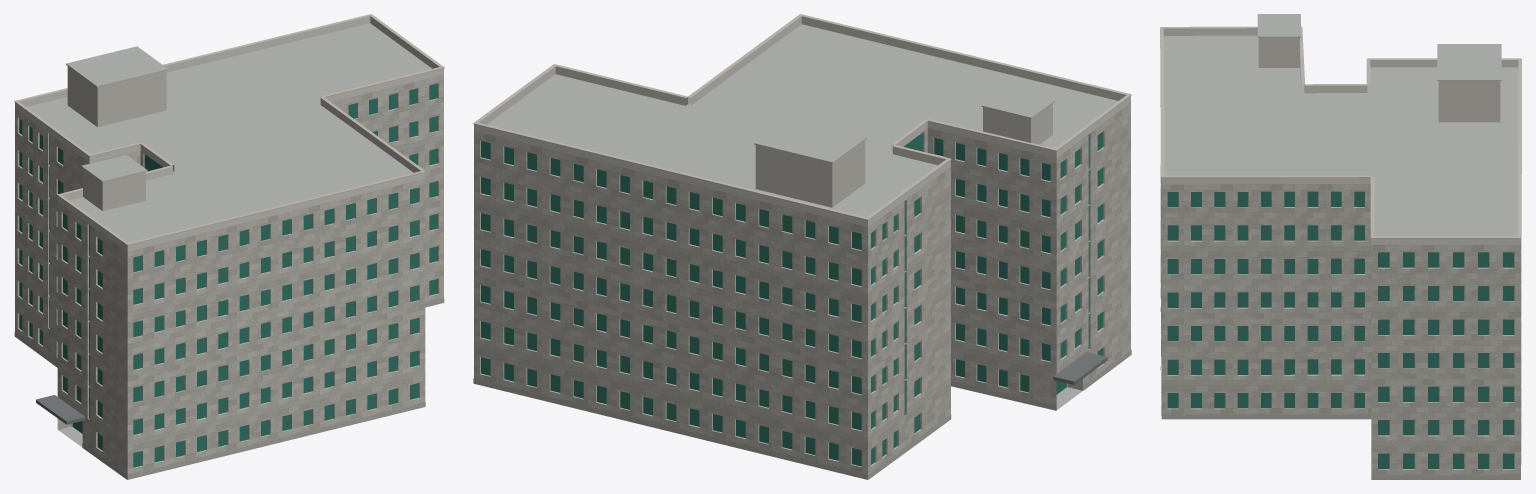
3 renders of one model, left to right at view 1: azimuth 30°, elevation 25°; view 2: azimuth 150°, elevation 25°; view 3: azimuth 270°, elevation 25°, orthographic. The views are drawn at different scales.
Parts seen in each view (by area): view 1: humanEcology__wall, humanEcology__roof, humanEcology__glass, humanEcology__parapet, humanEcology__wall2, humanEcology__trim, humanEcology__base, humanEcology__canopy; view 2: humanEcology__wall, humanEcology__roof, humanEcology__glass, humanEcology__parapet, humanEcology__wall2, humanEcology__trim, humanEcology__base, humanEcology__canopy; view 3: humanEcology__wall, humanEcology__roof, humanEcology__glass, humanEcology__parapet, humanEcology__trim, humanEcology__wall2, humanEcology__base.
Boxes of the visible parts, left/top/right/bottom form: humanEcology__wall: left=15, top=75, right=443, bottom=479; humanEcology__roof: left=27, top=23, right=432, bottom=446; humanEcology__glass: left=19, top=83, right=437, bottom=467; humanEcology__parapet: left=15, top=16, right=443, bottom=251; humanEcology__wall2: left=67, top=66, right=166, bottom=211; humanEcology__trim: left=14, top=14, right=444, bottom=245; humanEcology__base: left=14, top=298, right=444, bottom=479; humanEcology__canopy: left=36, top=395, right=85, bottom=424; humanEcology__wall: left=474, top=103, right=1130, bottom=479; humanEcology__roof: left=487, top=24, right=1117, bottom=409; humanEcology__glass: left=481, top=132, right=1102, bottom=466; humanEcology__parapet: left=474, top=16, right=1130, bottom=227; humanEcology__wall2: left=755, top=103, right=1052, bottom=207; humanEcology__trim: left=473, top=14, right=1131, bottom=220; humanEcology__base: left=473, top=350, right=1131, bottom=479; humanEcology__canopy: left=1053, top=352, right=1107, bottom=384; humanEcology__wall: left=1160, top=166, right=1521, bottom=475; humanEcology__roof: left=1163, top=14, right=1518, bottom=236; humanEcology__glass: left=1167, top=191, right=1514, bottom=468; humanEcology__parapet: left=1161, top=28, right=1520, bottom=244; humanEcology__trim: left=1160, top=26, right=1521, bottom=238; humanEcology__wall2: left=1258, top=38, right=1500, bottom=122; humanEcology__base: left=1160, top=307, right=1520, bottom=479.
Size of the model in its own units: 50.84 by 29.8 by 35.21.
Materials: 10 (1 with a texture image).
